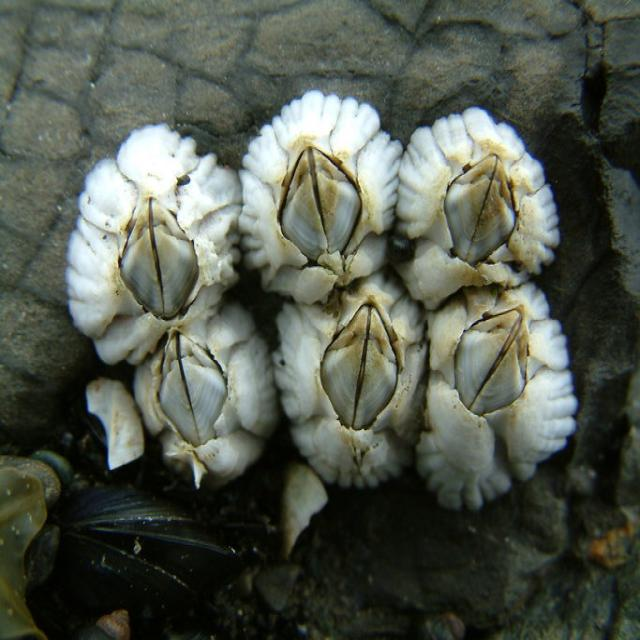barnacles: (425, 290, 585, 524), (69, 129, 242, 338), (240, 94, 403, 303), (286, 300, 434, 500), (394, 123, 560, 298), (139, 315, 274, 503)
